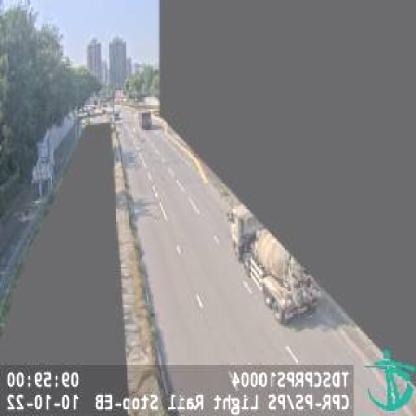Bus: (138, 109, 152, 128)
Truck: (234, 204, 315, 322)
